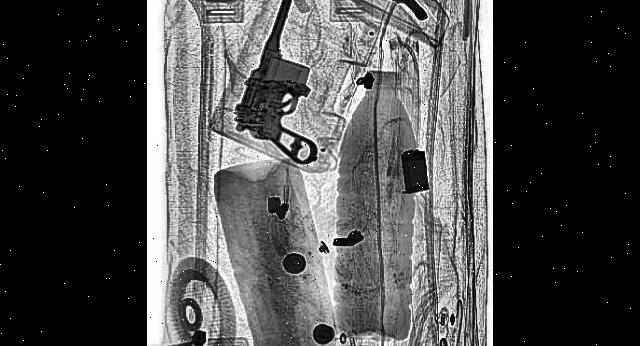Gun: (229, 0, 351, 218), (305, 0, 431, 25)
